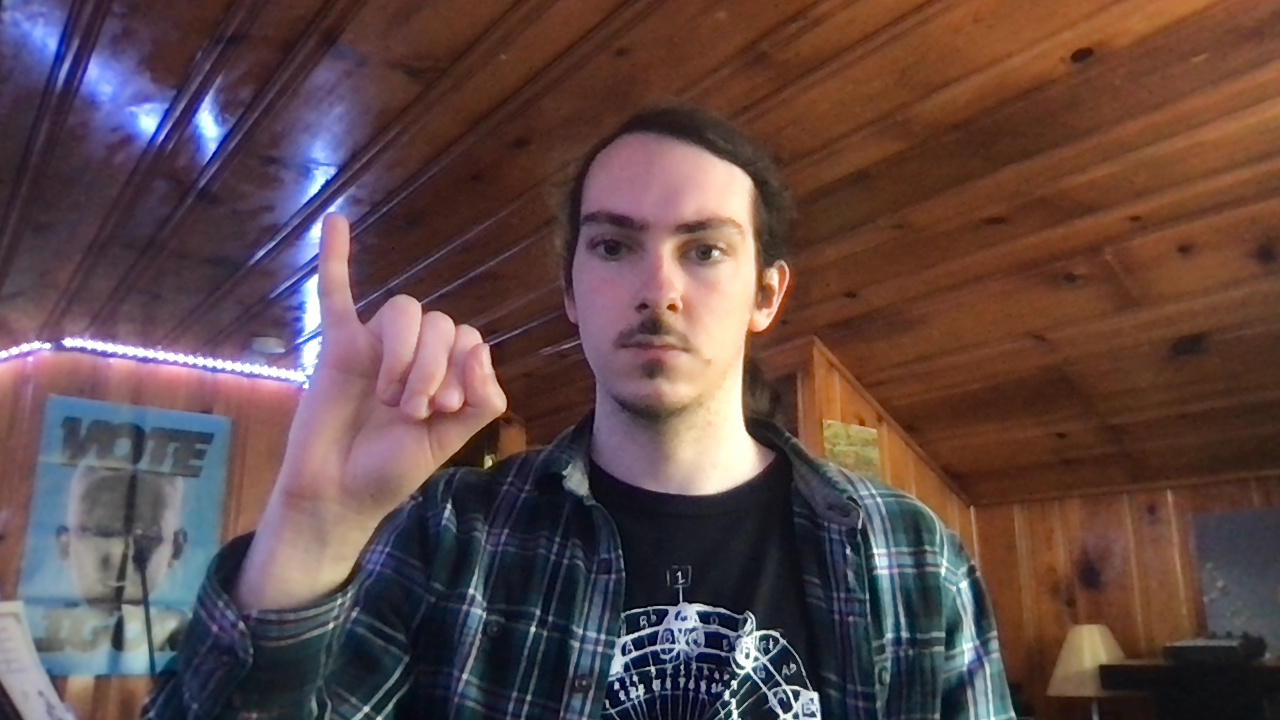i: (277, 211, 510, 521)
